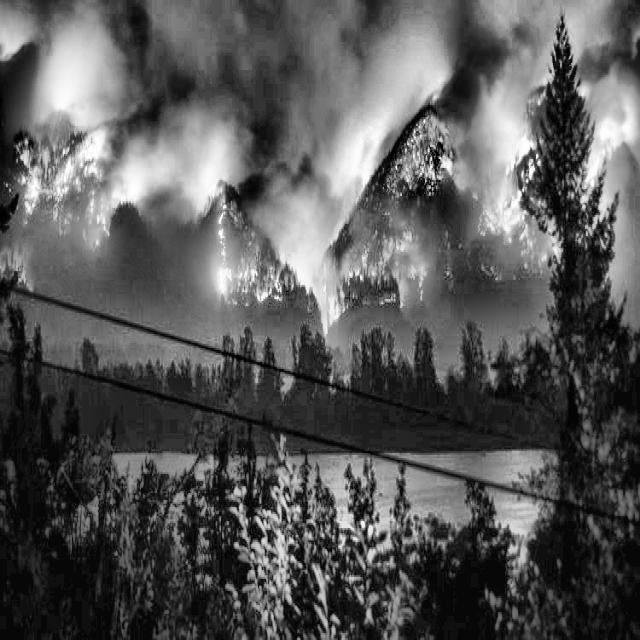fire: (330, 104, 482, 394), (492, 120, 614, 347), (182, 120, 298, 331), (21, 101, 133, 315)
